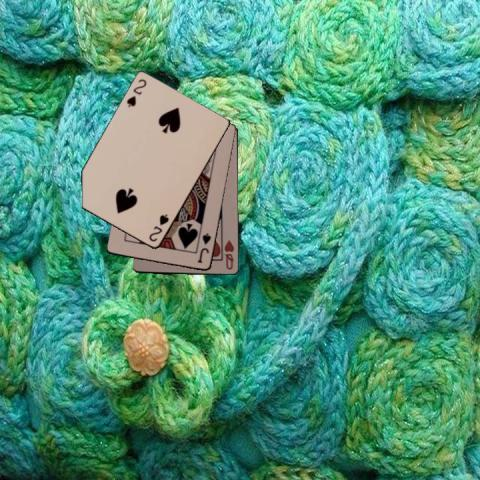2s: (146, 212, 171, 244), (124, 76, 148, 109)
Js: (194, 230, 212, 264)
Qh: (222, 237, 236, 271)
